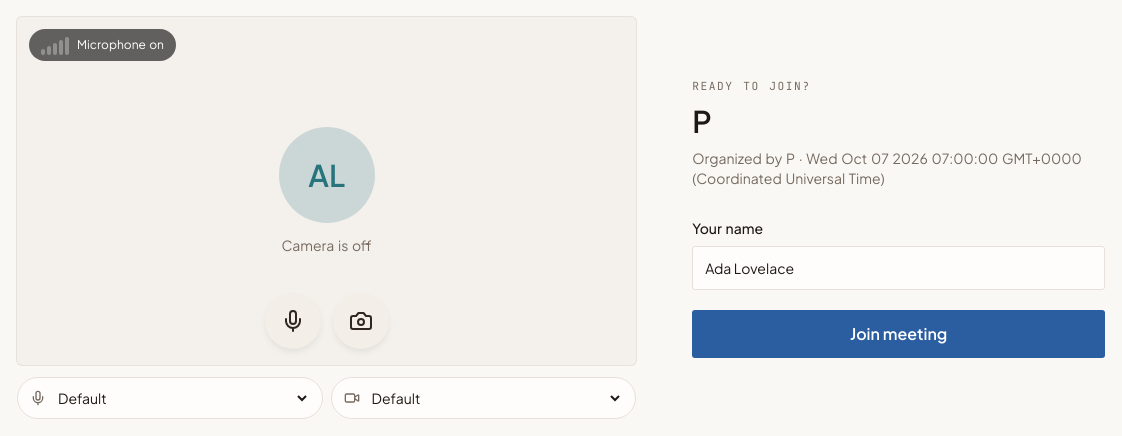
Test: MeetExperience › maps join failures to helpful messages and keeps the user on the pre-join screen
Click the button "Join meeting" at (899, 334), box [692, 310, 1105, 358]
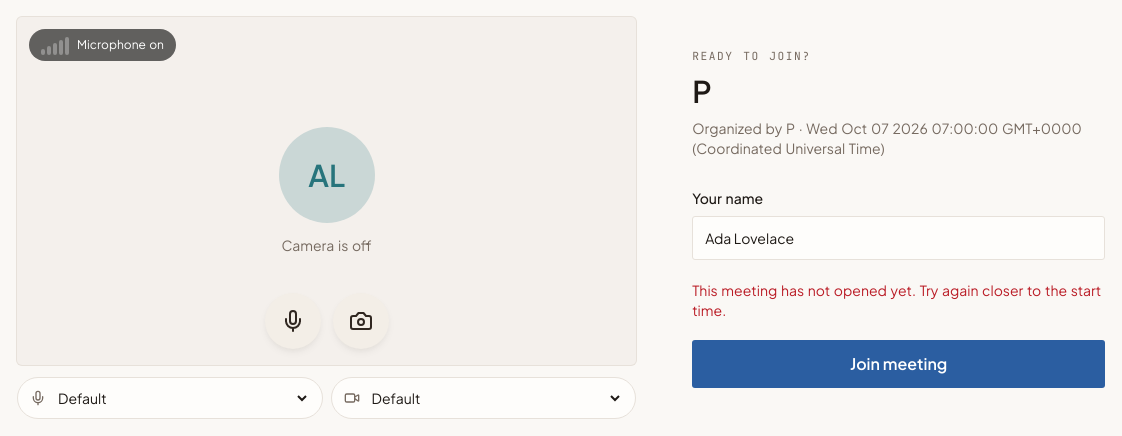
Expected: the button "Join meeting" is enabled, [692, 340, 1105, 388]
Result: the message shows "has not opened yet" at [692, 281, 1101, 319]
